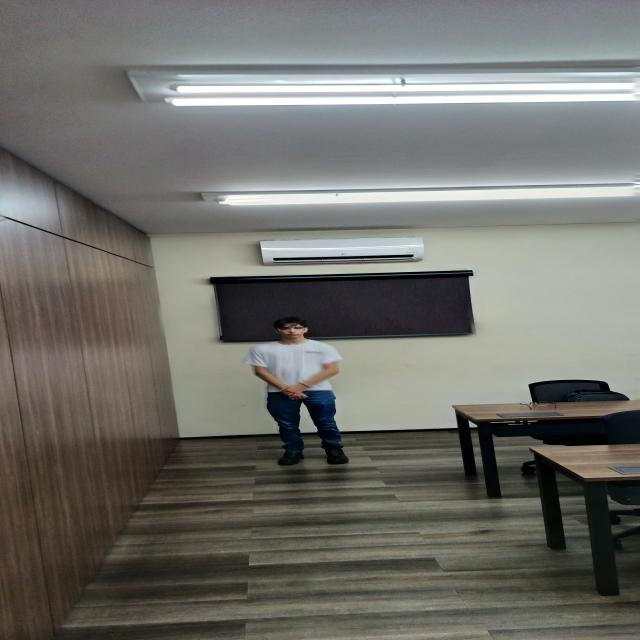oculos-epi: (277, 327, 305, 331)
